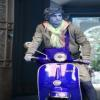motorcycles: (32, 52, 86, 100)
